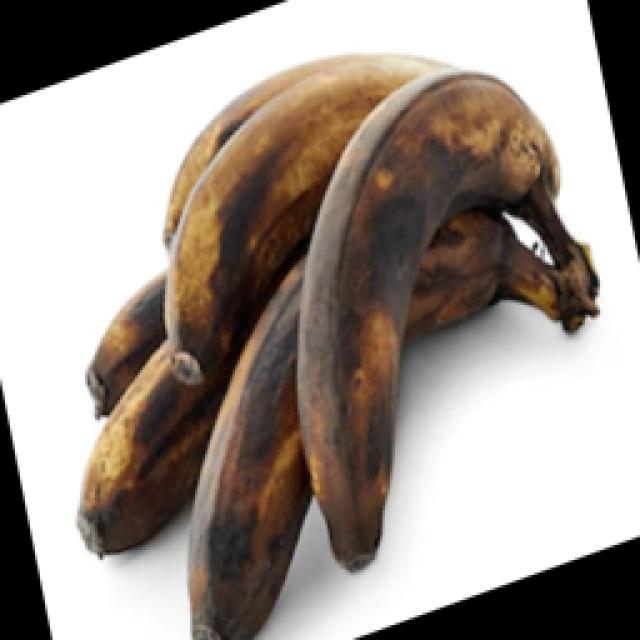Rotten_Banana: (25, 25, 595, 640)
